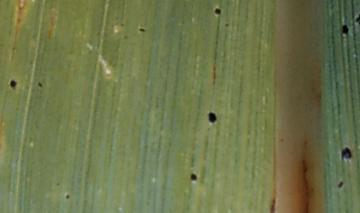tarspot: (341, 146, 354, 161), (341, 22, 350, 36), (208, 111, 217, 124), (9, 79, 18, 90), (213, 7, 222, 16), (354, 14, 360, 27), (190, 172, 197, 182), (138, 26, 146, 33), (337, 180, 344, 188), (224, 20, 230, 28), (37, 81, 43, 88), (64, 193, 71, 199)
